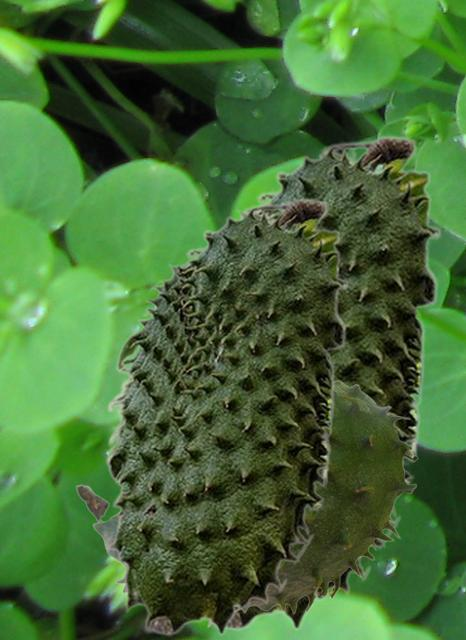guyabano: (206, 134, 440, 631), (104, 197, 348, 636), (75, 380, 417, 627)
